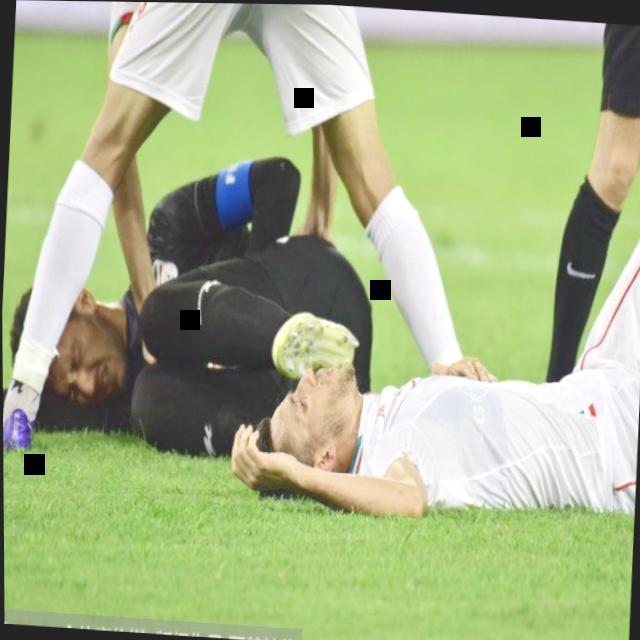Fall-Detected: (217, 19, 640, 519)
